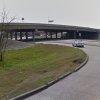Bridge: (1, 9, 95, 41)
